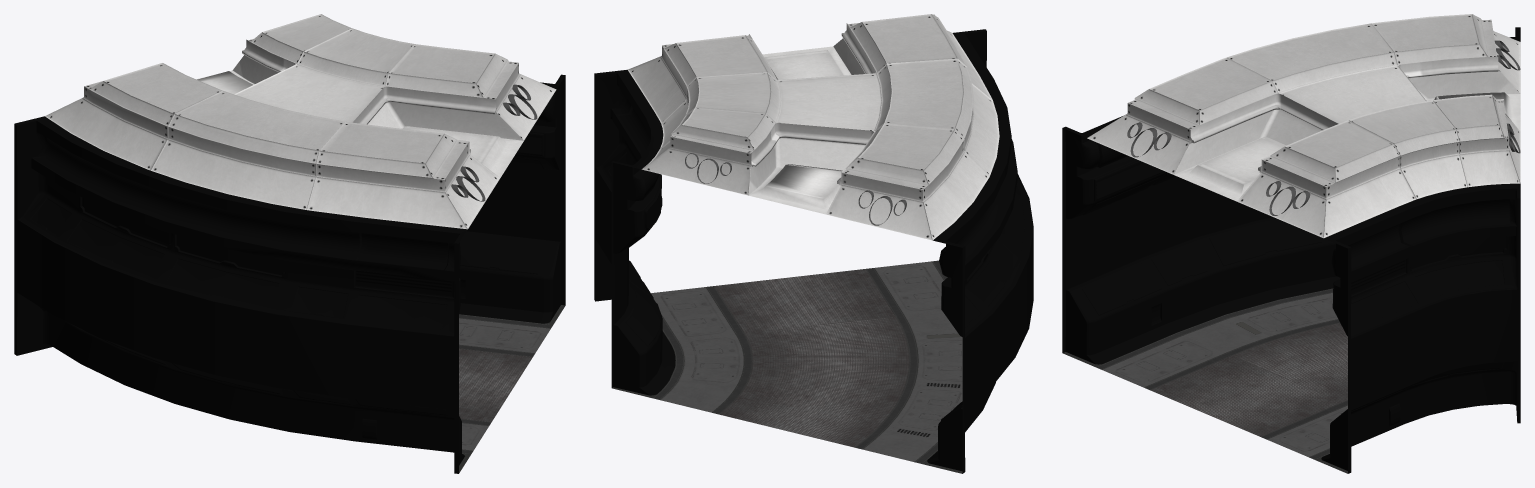
The model's file is HallwayCornerD.fbx.
3 views of the same model, side by side, from view 1: azimuth 30°, elevation 25°; view 2: azimuth 150°, elevation 25°; view 3: azimuth 270°, elevation 25° (orthographic). The views are drawn at different scales.
Visible parts, largest first — view 1: HallwayCornerD001; view 2: HallwayCornerD001; view 3: HallwayCornerD001.
Boxes of the visible parts, x1,y1,x2,y2 form: HallwayCornerD001: (14, 14, 565, 473); HallwayCornerD001: (594, 14, 1033, 473); HallwayCornerD001: (1062, 14, 1520, 473).
Size of the model in its own units: 842 by 478 by 737.
